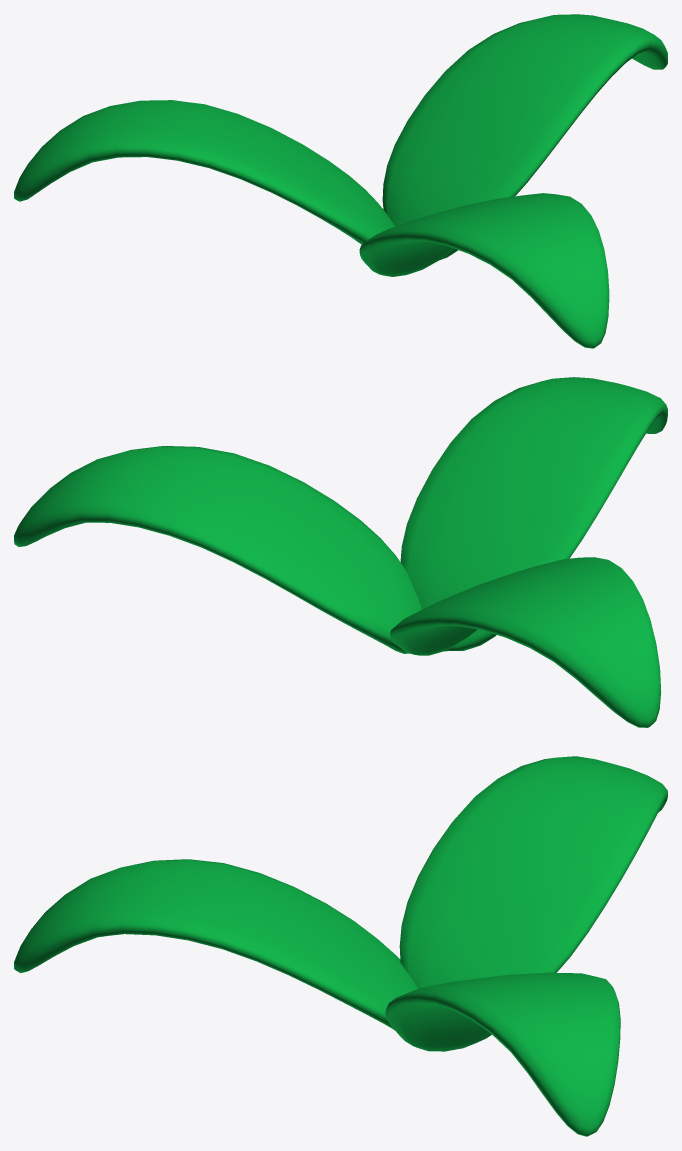
File: Town_13_Grass_1.glb
3 renders of one model, top to bottom at view 1: azimuth 30°, elevation 25°; view 2: azimuth 150°, elevation 25°; view 3: azimuth 270°, elevation 25°, orthographic. The views are drawn at different scales.
Parts seen in each view (by area): view 1: Town_13_Grass_1; view 2: Town_13_Grass_1; view 3: Town_13_Grass_1.
Part boxes in pixels (left/top/right/bottom): Town_13_Grass_1: left=14, top=14, right=667, bottom=348; Town_13_Grass_1: left=14, top=377, right=667, bottom=727; Town_13_Grass_1: left=14, top=756, right=667, bottom=1136.
Bounding box in the file's own units: 0.7927 × 0.185 × 0.6653.
Materials: 1 (1 with a texture image).
